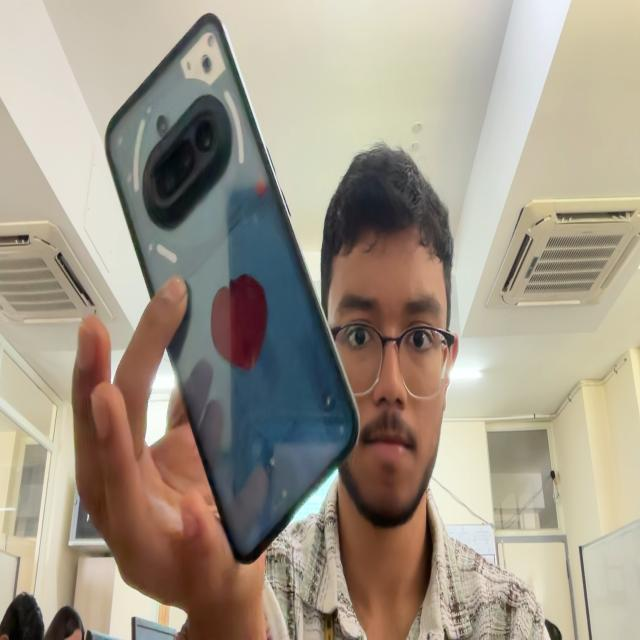Useful: (105, 14, 358, 561)
